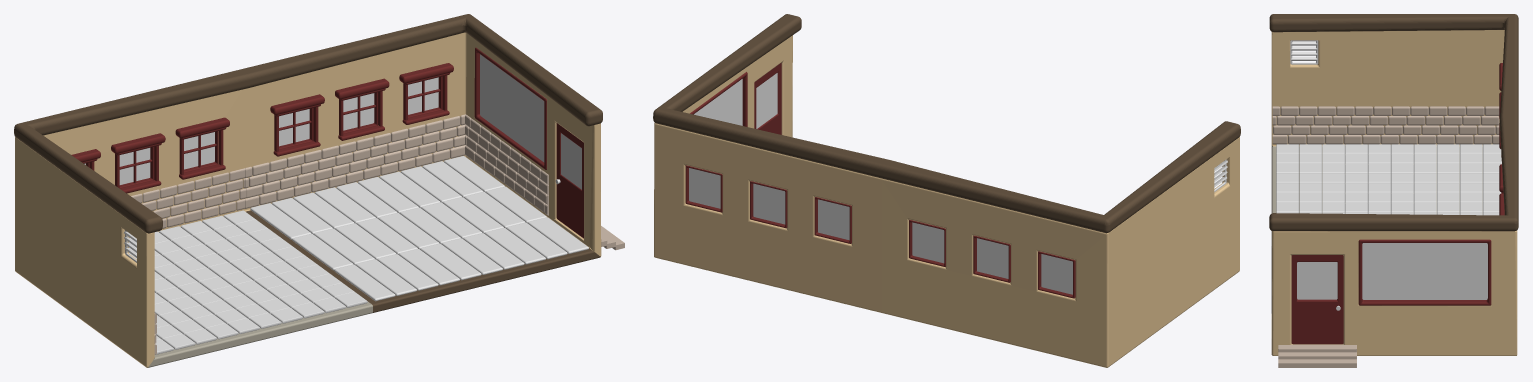
Rendered from restorant.fbx.
3 renders of one model, left to right at view 1: azimuth 30°, elevation 25°; view 2: azimuth 150°, elevation 25°; view 3: azimuth 270°, elevation 25°, orthographic. The views are drawn at different scales.
Visible parts, largest first — view 1: restorant; view 2: restorant; view 3: restorant.
Part boxes in pixels (x1,y1,x2,y2): restorant: [14, 14, 624, 367]; restorant: [653, 14, 1240, 367]; restorant: [1269, 14, 1518, 367].
Size of the model in its own units: 1312 by 385 by 633.
